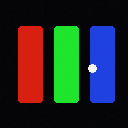0 point: (88, 64, 96, 72)
